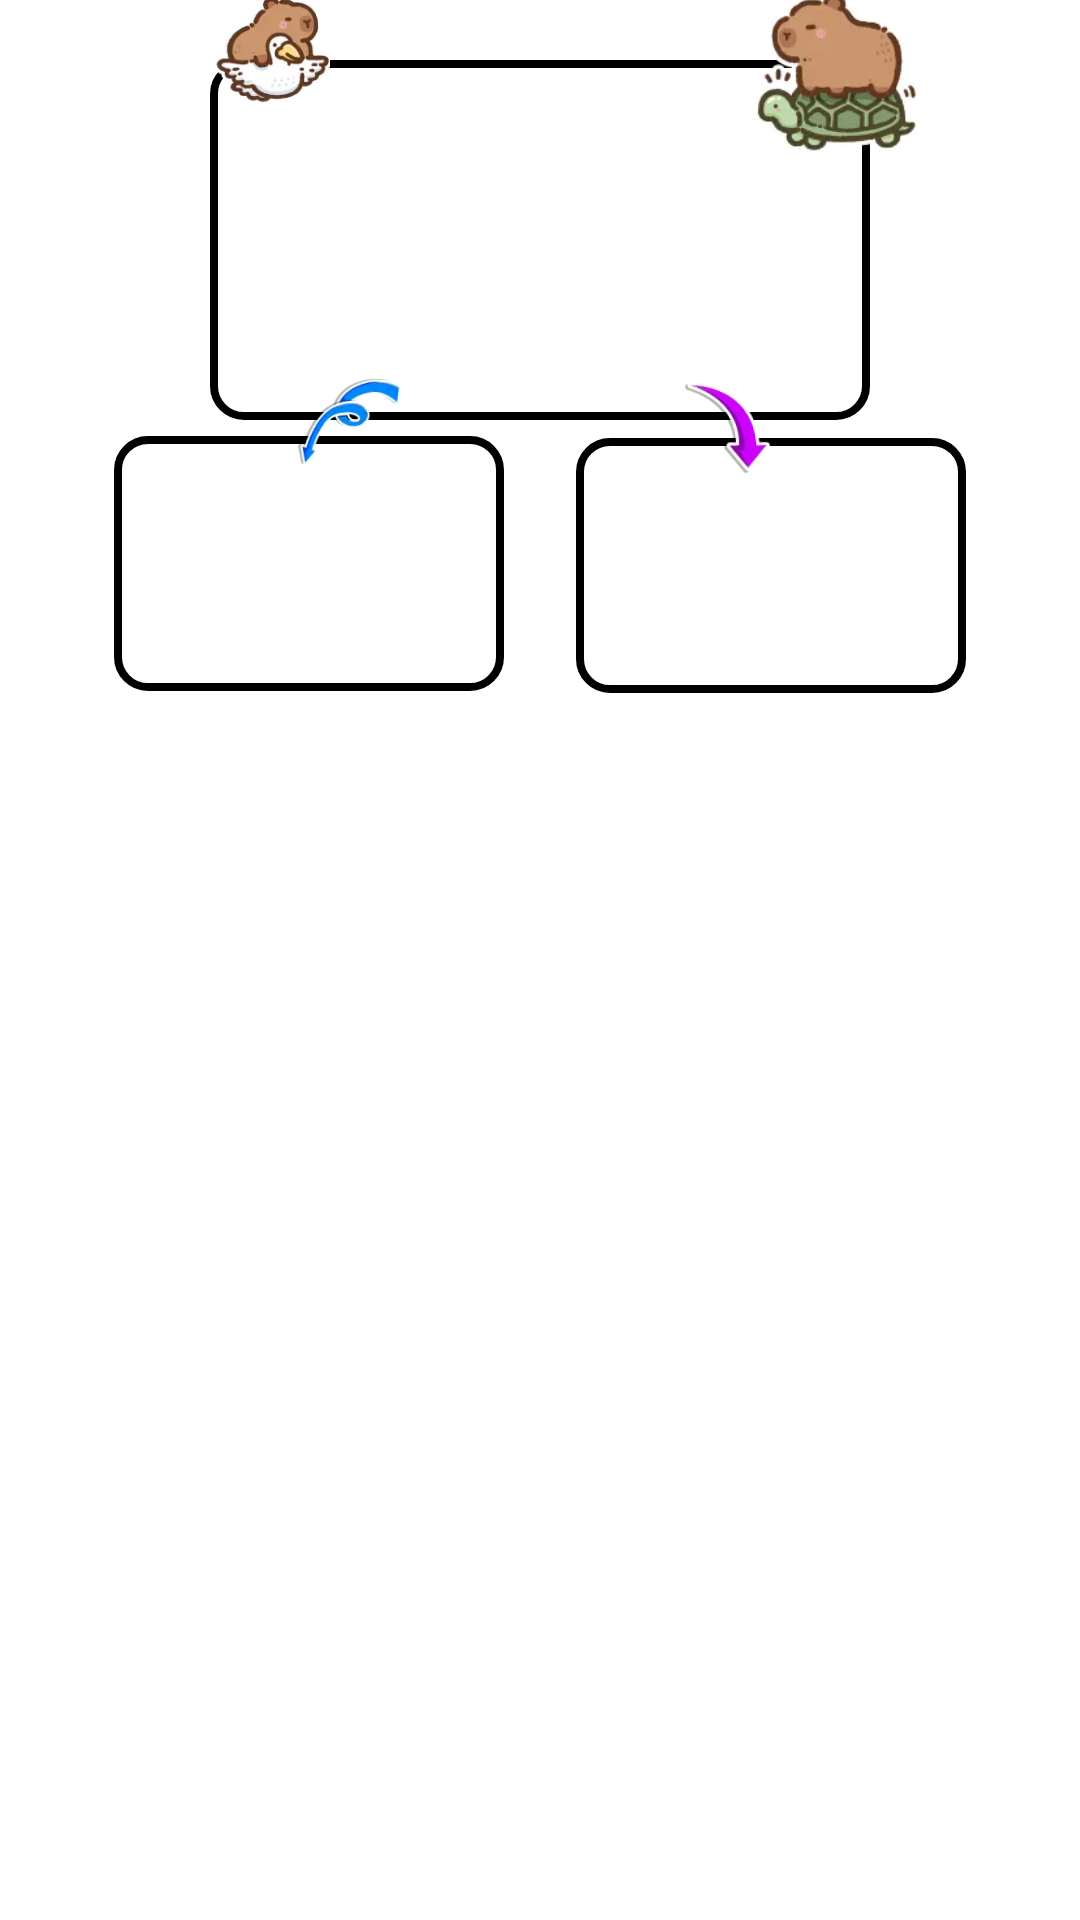

Named icons in this screenshot (1080×1920) and their bounding boxes, bbox=(x1, y1, x2, y2):
capy left: bbox=(216, 0, 329, 103)
capy right: bbox=(757, 0, 916, 151)
